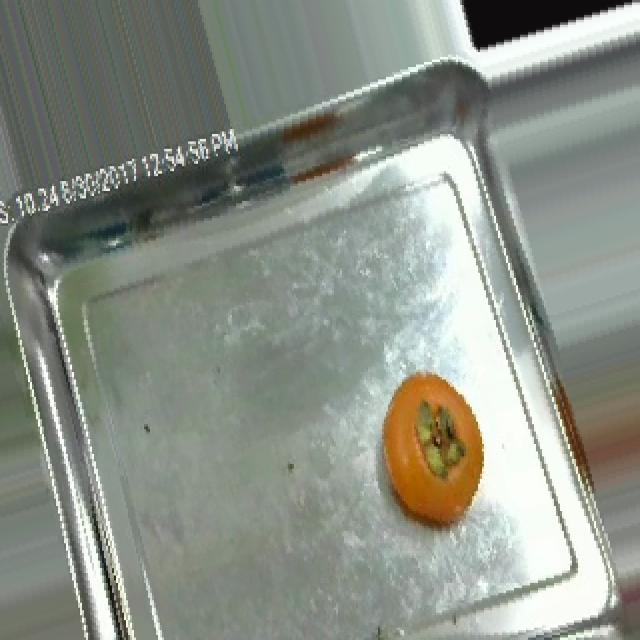Fruit: (370, 362, 498, 536)
